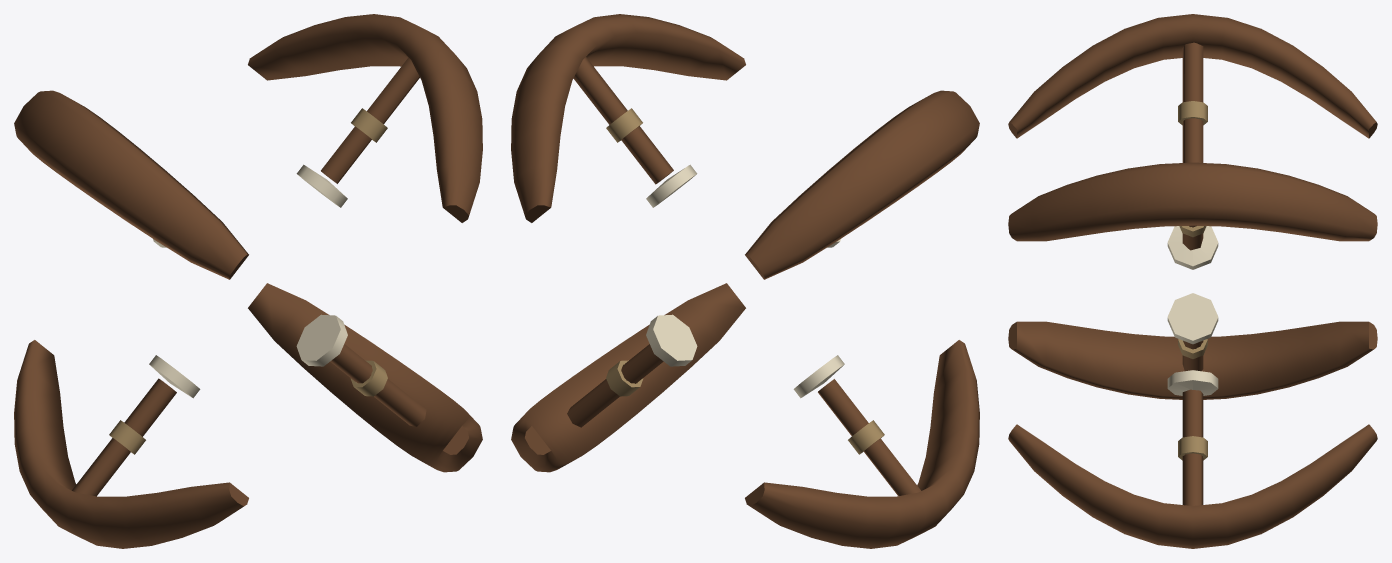
The model's file is k5_dampers.obj.
3 views of the same model, side by side, from view 1: azimuth 30°, elevation 25°; view 2: azimuth 150°, elevation 25°; view 3: azimuth 270°, elevation 25° (orthographic). The views are drawn at different scales.
Visible parts, largest first — view 1: k5_dampers; view 2: k5_dampers; view 3: k5_dampers.
Part boxes in pixels (<box>): k5_dampers: <box>14,14,482,548</box>; k5_dampers: <box>511,14,979,548</box>; k5_dampers: <box>1008,14,1377,548</box>.
Bounding box in the file's own units: 2.5 × 2.5 × 2.19.
